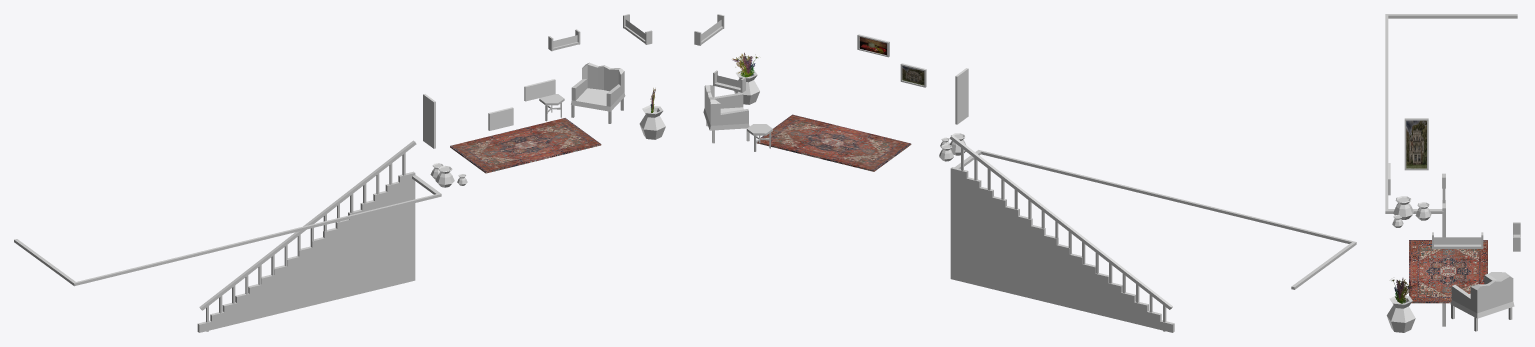
Rendered from Staircase.fbx.
3 renders of one model, left to right at view 1: azimuth 30°, elevation 25°; view 2: azimuth 150°, elevation 25°; view 3: azimuth 270°, elevation 25°, orthographic. The views are drawn at different scales.
Visible parts, largest first — view 1: Stairs.001, Plane.184, Plane.183, Cube.060, Cube.058, Cube.057, Circle.088, Plane.200, Plane.186, Plane.185; view 2: Stairs.001, Plane.184, Cube.060, Plane.183, Cube.058, Cube.057, Circle.088, Plane.200, Plane.186, Plane.185; view 3: Plane.184, Plane.183, Cube.060, Plane.200, Circle.088, Plane.198, Circle.089, Plane.199, Stairs.001, Circle.090, Circle.091, Circle.087.
Boxes of the visible parts, x1,y1,x2,y2 form: Stairs.001: (197,171,415,332); Plane.184: (450,118,601,173); Plane.183: (571,62,625,123); Cube.060: (14,175,441,286); Cube.058: (199,140,416,310); Cube.057: (206,153,405,331); Circle.088: (639,88,665,139); Plane.200: (423,94,435,148); Plane.186: (524,79,555,101); Plane.185: (488,107,513,130); Stairs.001: (950,167,1174,332); Plane.184: (757,114,911,171); Cube.060: (954,150,1356,289); Plane.183: (703,85,749,143); Cube.058: (949,135,1172,309); Cube.057: (961,148,1166,331); Circle.088: (732,52,759,104); Plane.200: (955,68,968,124); Plane.186: (857,34,889,57); Plane.185: (900,63,926,87); Plane.184: (1409,240,1487,303); Plane.183: (1450,274,1514,331); Cube.060: (1385,14,1517,213); Plane.200: (1404,118,1428,170); Circle.088: (1386,278,1415,332); Plane.198: (1432,232,1483,249); Circle.089: (1393,196,1413,219); Plane.199: (1513,222,1520,251); Stairs.001: (1442,200,1445,326); Circle.090: (1415,202,1431,220); Circle.091: (1392,215,1403,227); Circle.087: (1484,272,1510,280).
Bounding box in the file's own units: 2390 × 751 × 425.
